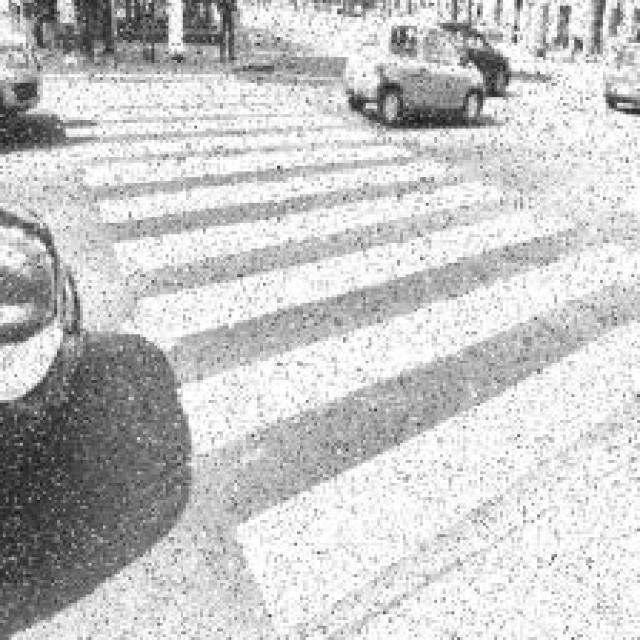crosswalk: (51, 68, 620, 640)
